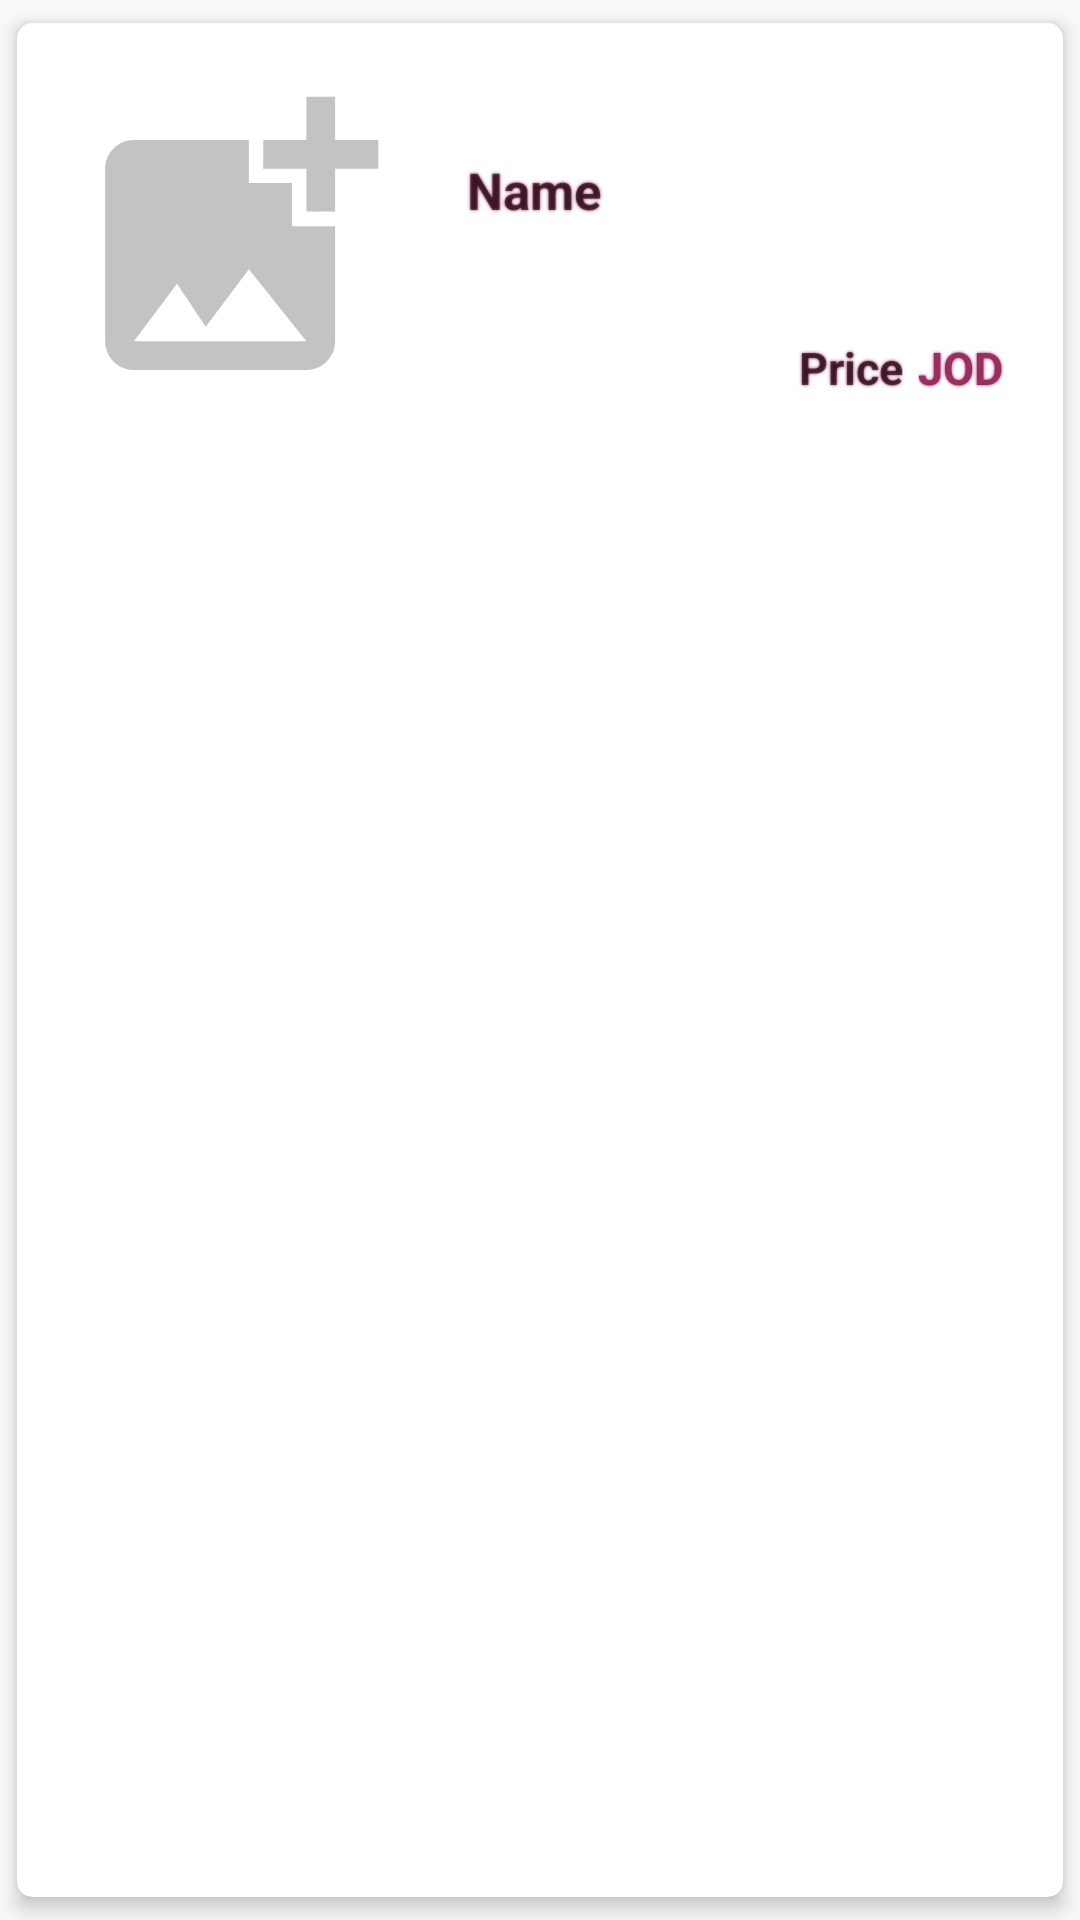

Icon click points for this 1080px×1920px phone screenshot, format (x,y):
add photo: (241,233)
